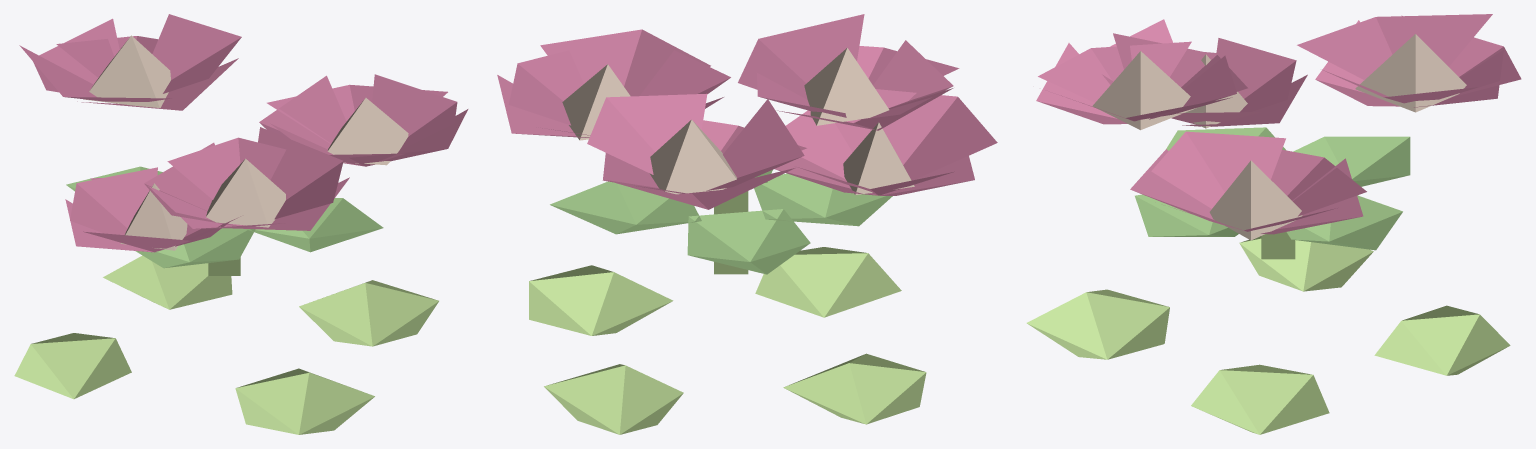
Rendered from cao.dixue@flowering__bloom.glb.
3 views of the same model, side by side, from view 1: azimuth 30°, elevation 25°; view 2: azimuth 150°, elevation 25°; view 3: azimuth 270°, elevation 25° (orthographic). The views are drawn at different scales.
Visible parts, largest first — view 1: cao.dixue@flowering__bloom; view 2: cao.dixue@flowering__bloom; view 3: cao.dixue@flowering__bloom.
Part boxes in pixels (bbox=[...]): cao.dixue@flowering__bloom: bbox=[14, 14, 468, 434]; cao.dixue@flowering__bloom: bbox=[497, 14, 997, 434]; cao.dixue@flowering__bloom: bbox=[1026, 14, 1521, 434].
Bounding box in the file's own units: 0.9387 × 0.6399 × 0.9122.
